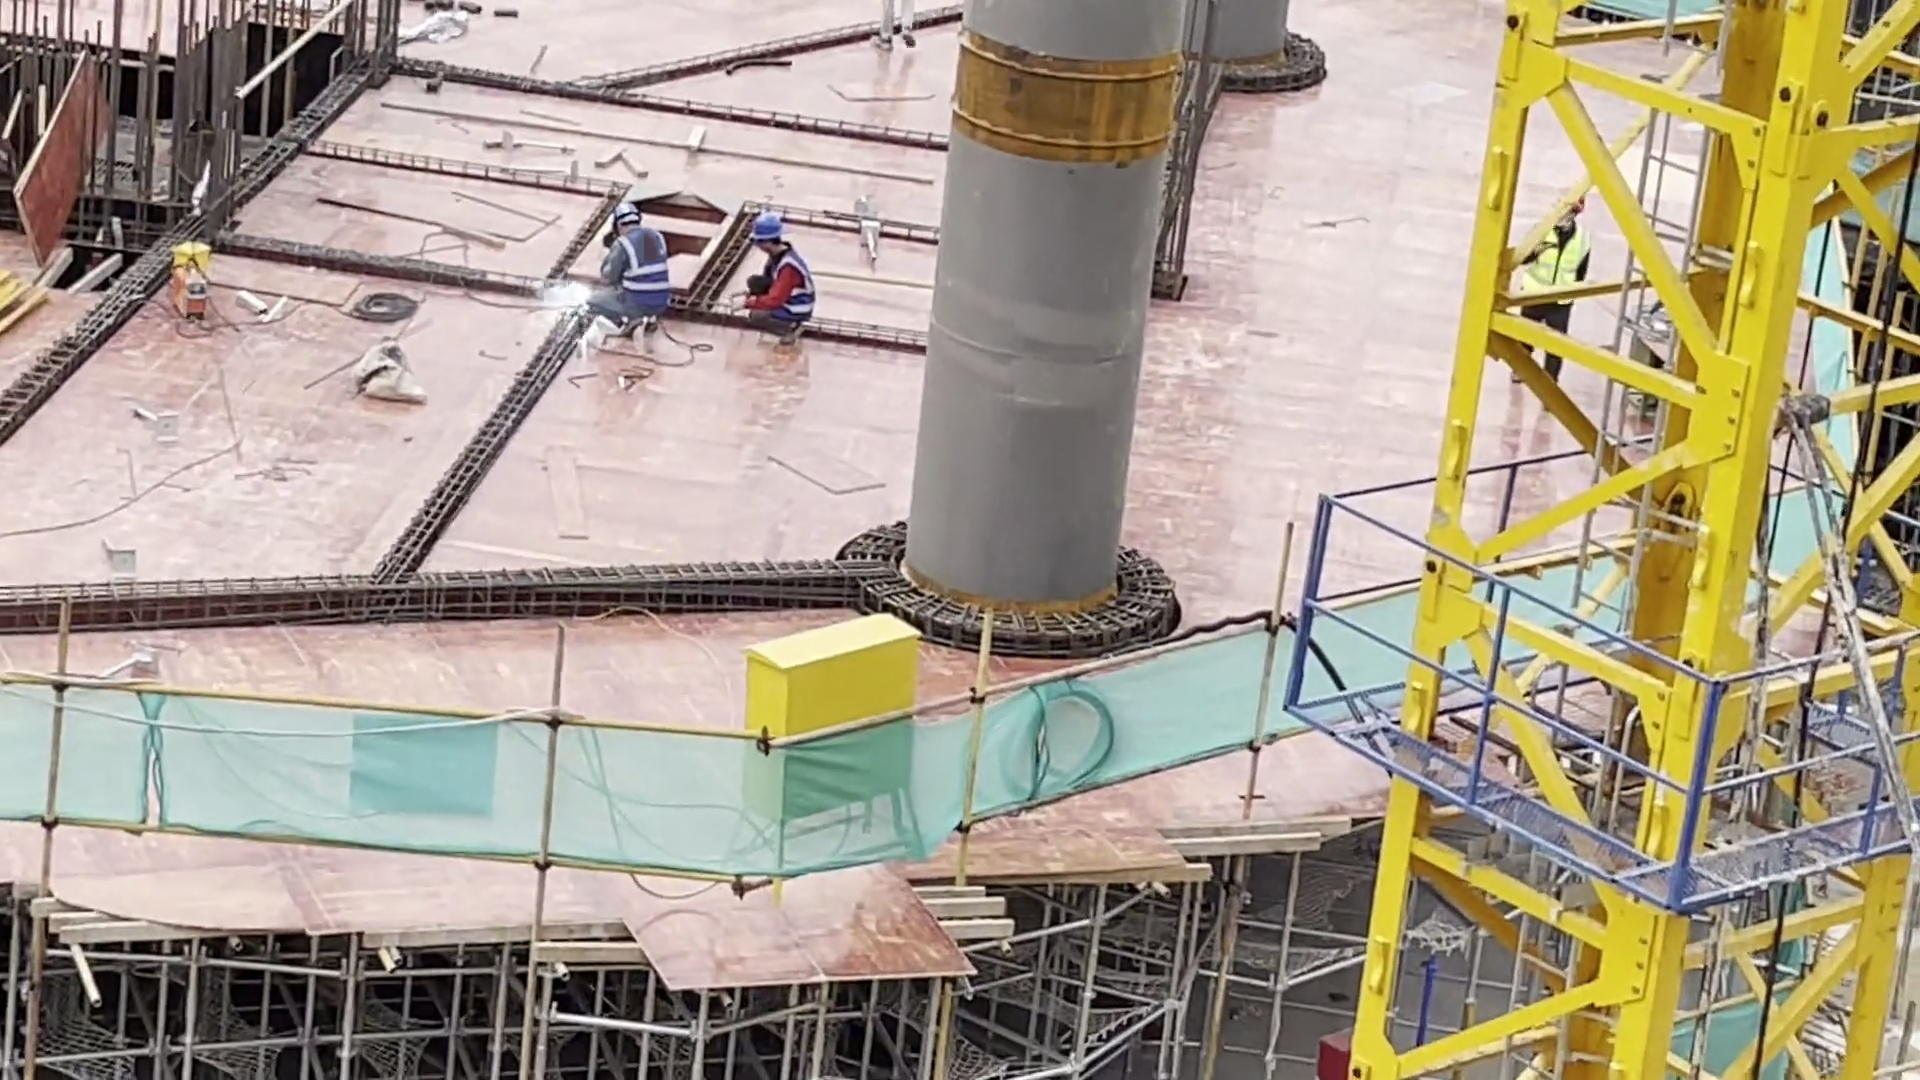ebox: (746, 610, 924, 903)
helmet: (748, 214, 784, 244), (612, 199, 641, 225)
person: (1513, 190, 1591, 423), (724, 214, 822, 352), (598, 197, 680, 339)
vest: (605, 228, 675, 314), (765, 247, 817, 321)
